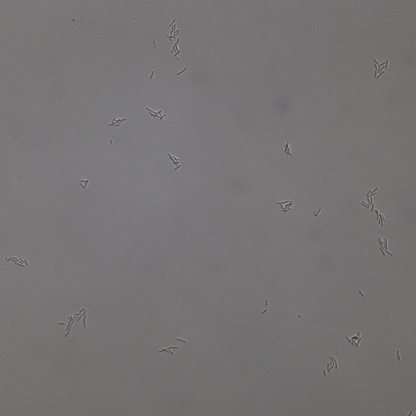R(colony): (360, 188, 385, 227), (57, 307, 87, 339), (375, 236, 392, 257), (167, 17, 181, 42), (373, 59, 389, 80), (322, 356, 338, 376), (5, 255, 28, 267), (146, 107, 166, 120), (346, 331, 362, 347), (171, 38, 182, 60), (277, 199, 294, 213), (168, 153, 181, 170), (158, 346, 178, 355), (282, 141, 293, 157), (108, 118, 126, 127)
